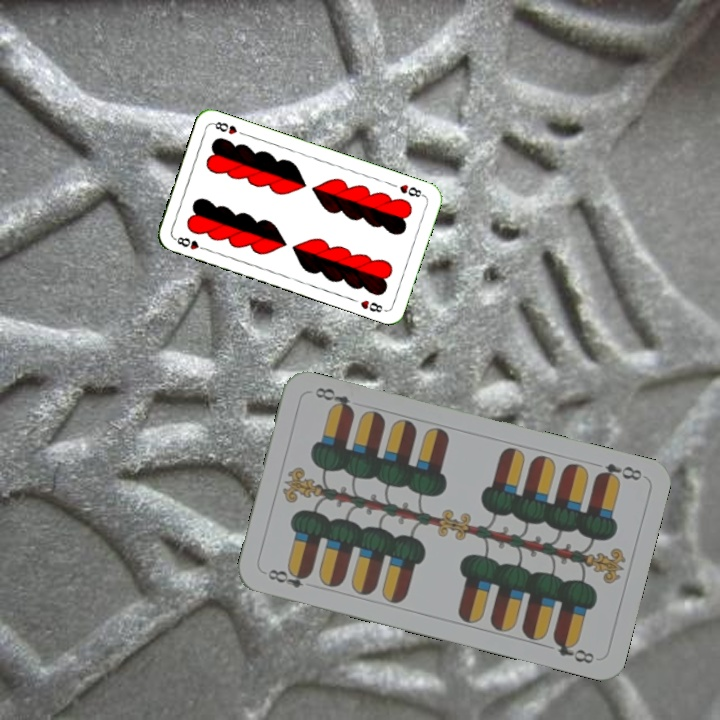E8: (591, 459, 645, 486), (260, 565, 313, 591)
H8: (170, 233, 210, 253), (395, 180, 427, 200)
